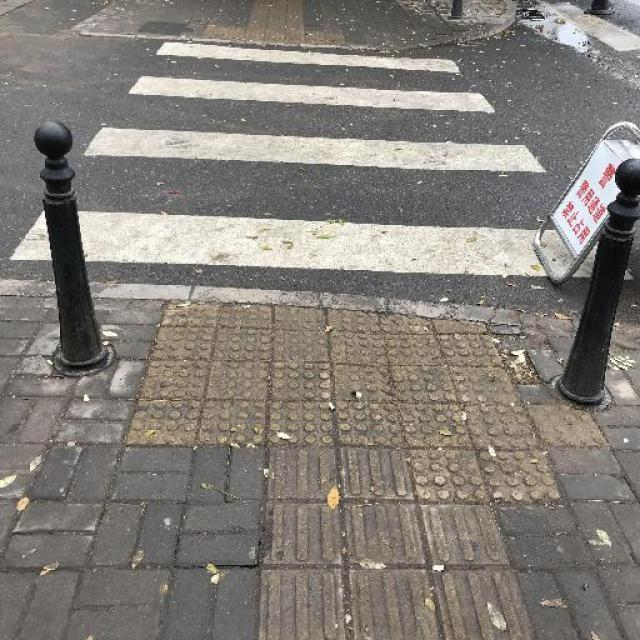crosswalk: (12, 38, 628, 286)
